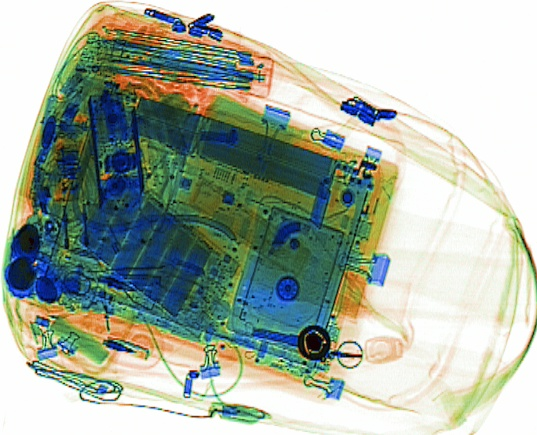powerbank: (68, 161, 240, 339)
